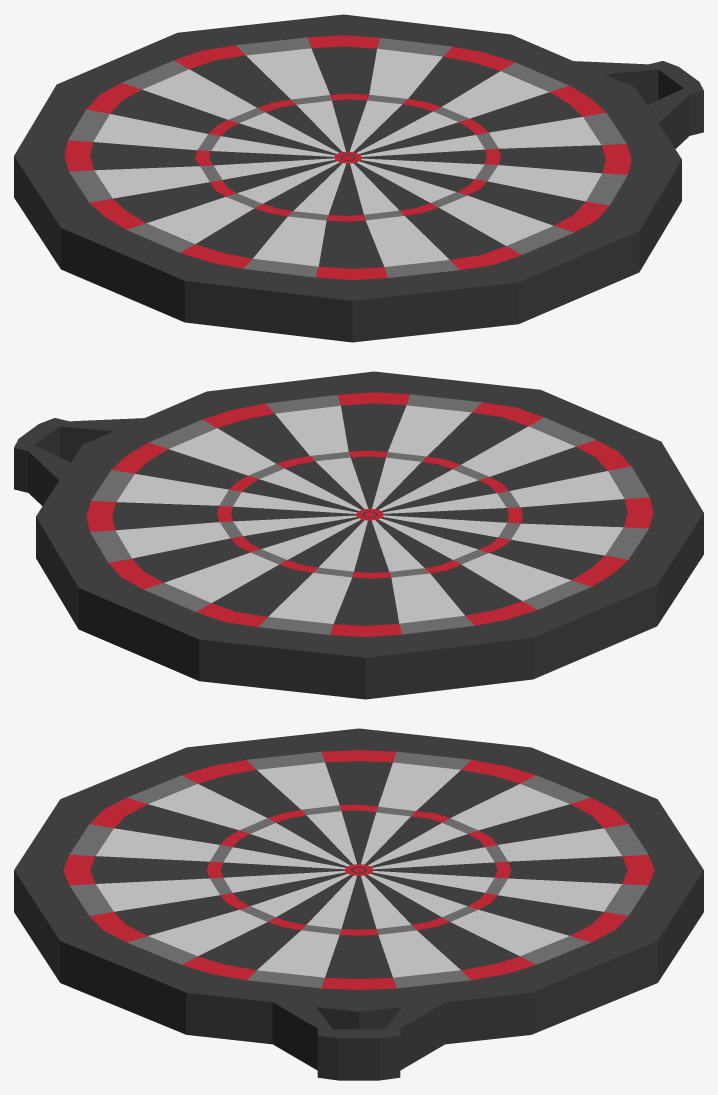
File: Dartboard.fbx
3 views of the same model, one above another, from view 1: azimuth 30°, elevation 25°; view 2: azimuth 150°, elevation 25°; view 3: azimuth 270°, elevation 25° (orthographic).
Visible parts, largest first — view 1: Dartboard; view 2: Dartboard; view 3: Dartboard.
Boxes of the visible parts, bbox=[...] form: Dartboard: bbox=[14, 14, 703, 342]; Dartboard: bbox=[14, 371, 703, 699]; Dartboard: bbox=[14, 728, 703, 1080].
Size of the model in its own units: 1050 by 66.43 by 987.
